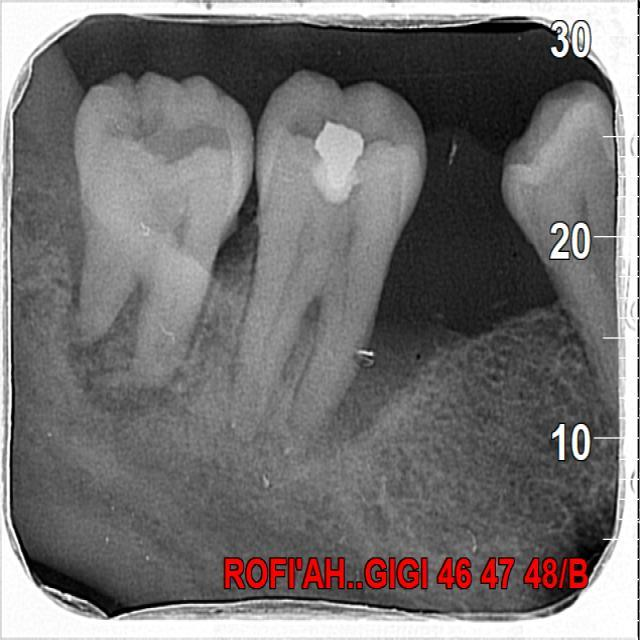individual-tooth-8tto: (238, 78, 419, 445), (73, 66, 262, 389)
